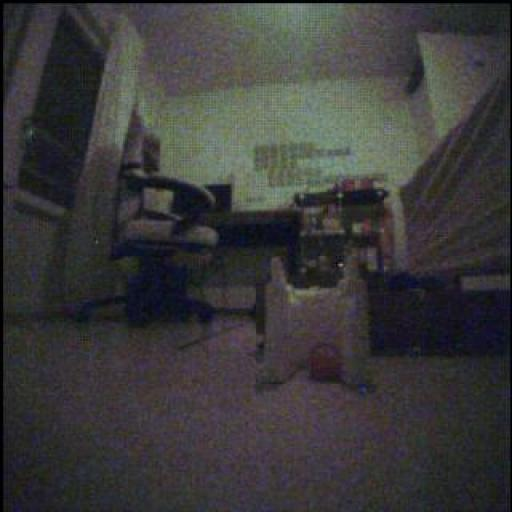basket: (310, 345, 343, 382)
